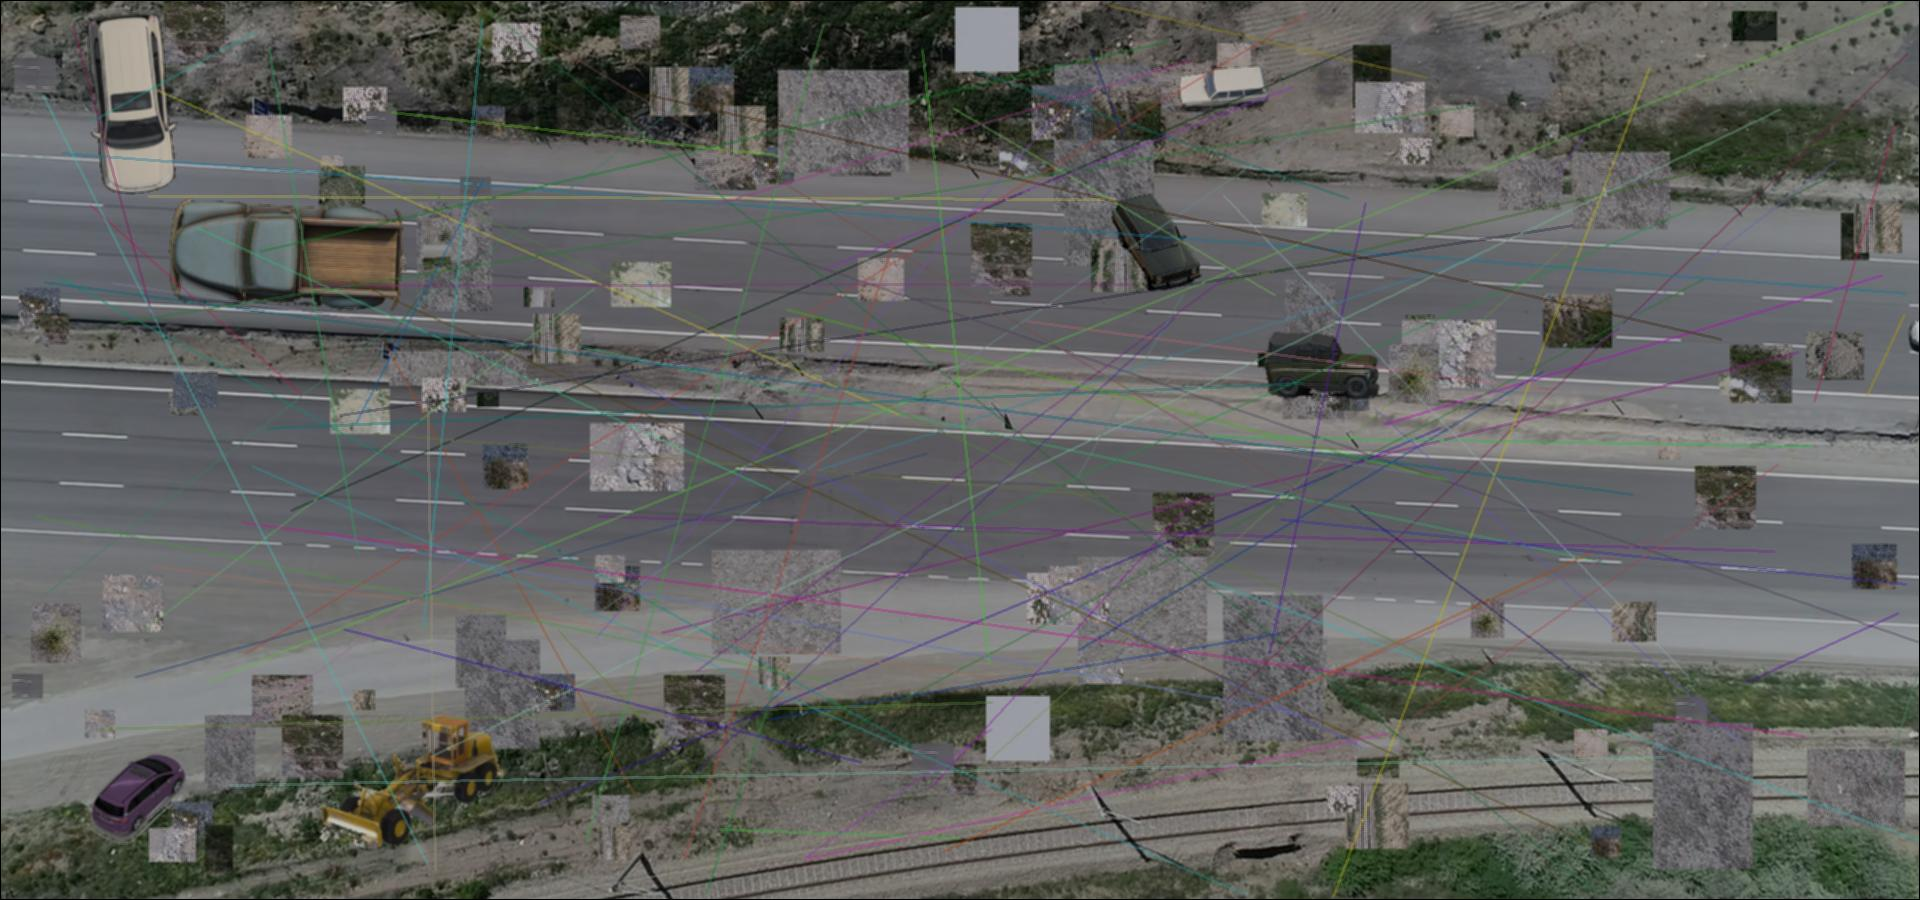arac: (318, 708, 514, 853), (168, 200, 404, 313), (75, 6, 180, 198), (91, 746, 189, 846), (1108, 193, 1202, 290), (1262, 332, 1379, 399), (1177, 66, 1269, 113)
